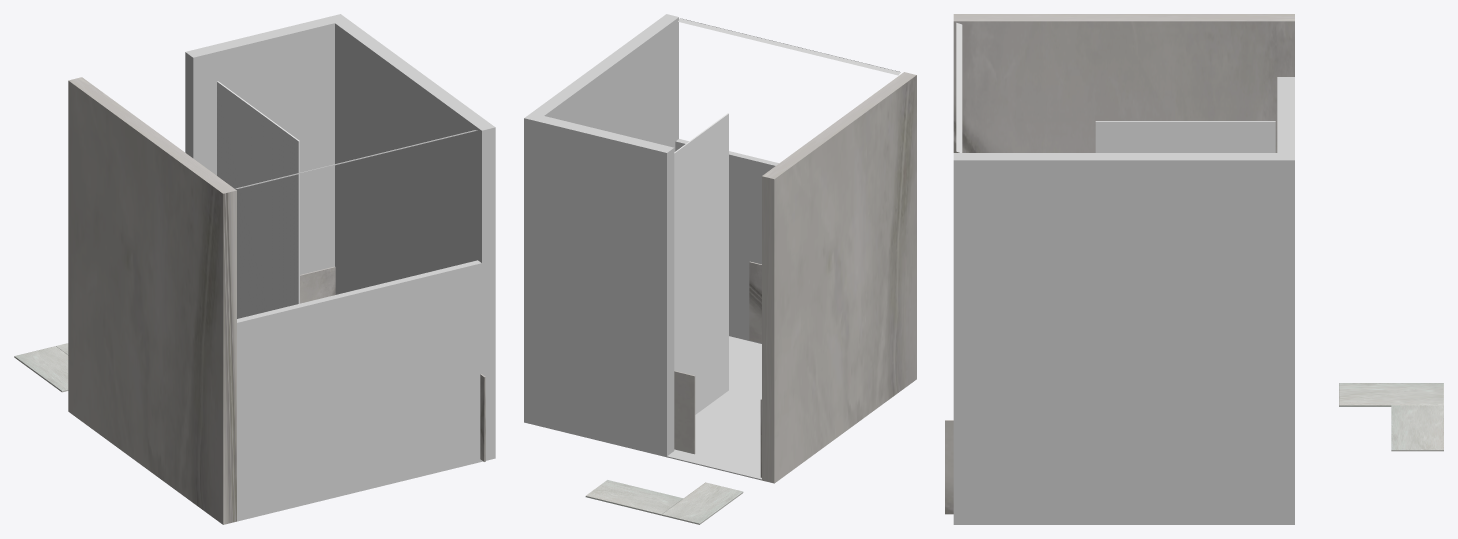
Rendered from AliciasBathroom.glb.
3 renders of one model, left to right at view 1: azimuth 30°, elevation 25°; view 2: azimuth 150°, elevation 25°; view 3: azimuth 270°, elevation 25°, orthographic. The views are drawn at different scales.
Parts seen in each view (by area): view 1: Side wall, Window wall, Shower wall, Door wall, Door wall.002, Floor tiles X.001, Door wall tiles H.001; view 2: Side wall, Door wall, Shower wall, Door wall.002, Cube.001, Window wall, Floor tiles X.001, Door wall tiles H.001, Window blind, Window wall tiles H.001; view 3: Shower wall, Side wall, Door wall.002, Floor tiles X.001, Door wall, Window blind, Shower wall tiles H.001.
Boxes of the visible parts, bbox=[...] form: Side wall: bbox=[68, 77, 236, 524]; Window wall: bbox=[237, 260, 481, 521]; Shower wall: bbox=[327, 14, 495, 461]; Door wall: bbox=[185, 17, 334, 274]; Door wall.002: bbox=[217, 81, 299, 318]; Floor tiles X.001: bbox=[14, 343, 68, 392]; Door wall tiles H.001: bbox=[300, 266, 335, 303]; Side wall: bbox=[762, 72, 916, 483]; Door wall: bbox=[536, 116, 674, 457]; Shower wall: bbox=[524, 14, 678, 425]; Door wall.002: bbox=[674, 113, 728, 414]; Cube.001: bbox=[667, 336, 761, 480]; Window wall: bbox=[675, 139, 778, 343]; Floor tiles X.001: bbox=[585, 480, 743, 524]; Door wall tiles H.001: bbox=[674, 370, 695, 454]; Window blind: bbox=[678, 18, 900, 75]; Window wall tiles H.001: bbox=[749, 261, 761, 342]; Shower wall: bbox=[953, 153, 1294, 524]; Side wall: bbox=[953, 14, 1294, 152]; Door wall.002: bbox=[1095, 121, 1275, 152]; Floor tiles X.001: bbox=[1339, 383, 1443, 451]; Door wall: bbox=[1277, 77, 1294, 152]; Window blind: bbox=[956, 22, 962, 152]; Shower wall tiles H.001: bbox=[945, 420, 953, 514].
Size of the model in its own units: 1.98 by 2.3 by 2.85.
Materials: 3 (2 with a texture image).
